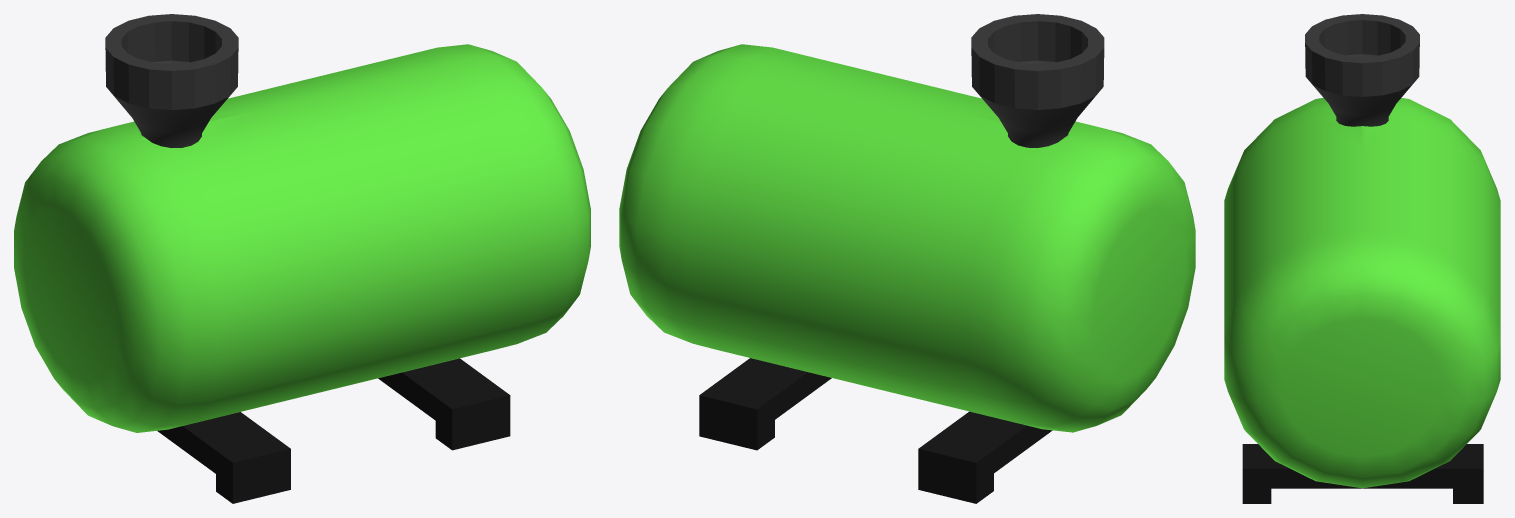
Rendered from MotorGRANDE.fbx.
3 views of the same model, side by side, from view 1: azimuth 30°, elevation 25°; view 2: azimuth 150°, elevation 25°; view 3: azimuth 270°, elevation 25° (orthographic). The views are drawn at different scales.
Visible parts, largest first — view 1: Cylinder001; view 2: Cylinder001; view 3: Cylinder001.
Boxes of the visible parts, <box> form: Cylinder001: <box>14,14,590,503</box>; Cylinder001: <box>619,14,1195,503</box>; Cylinder001: <box>1224,14,1500,503</box>.
Size of the model in its own units: 18.29 by 15.4 by 10.95.
